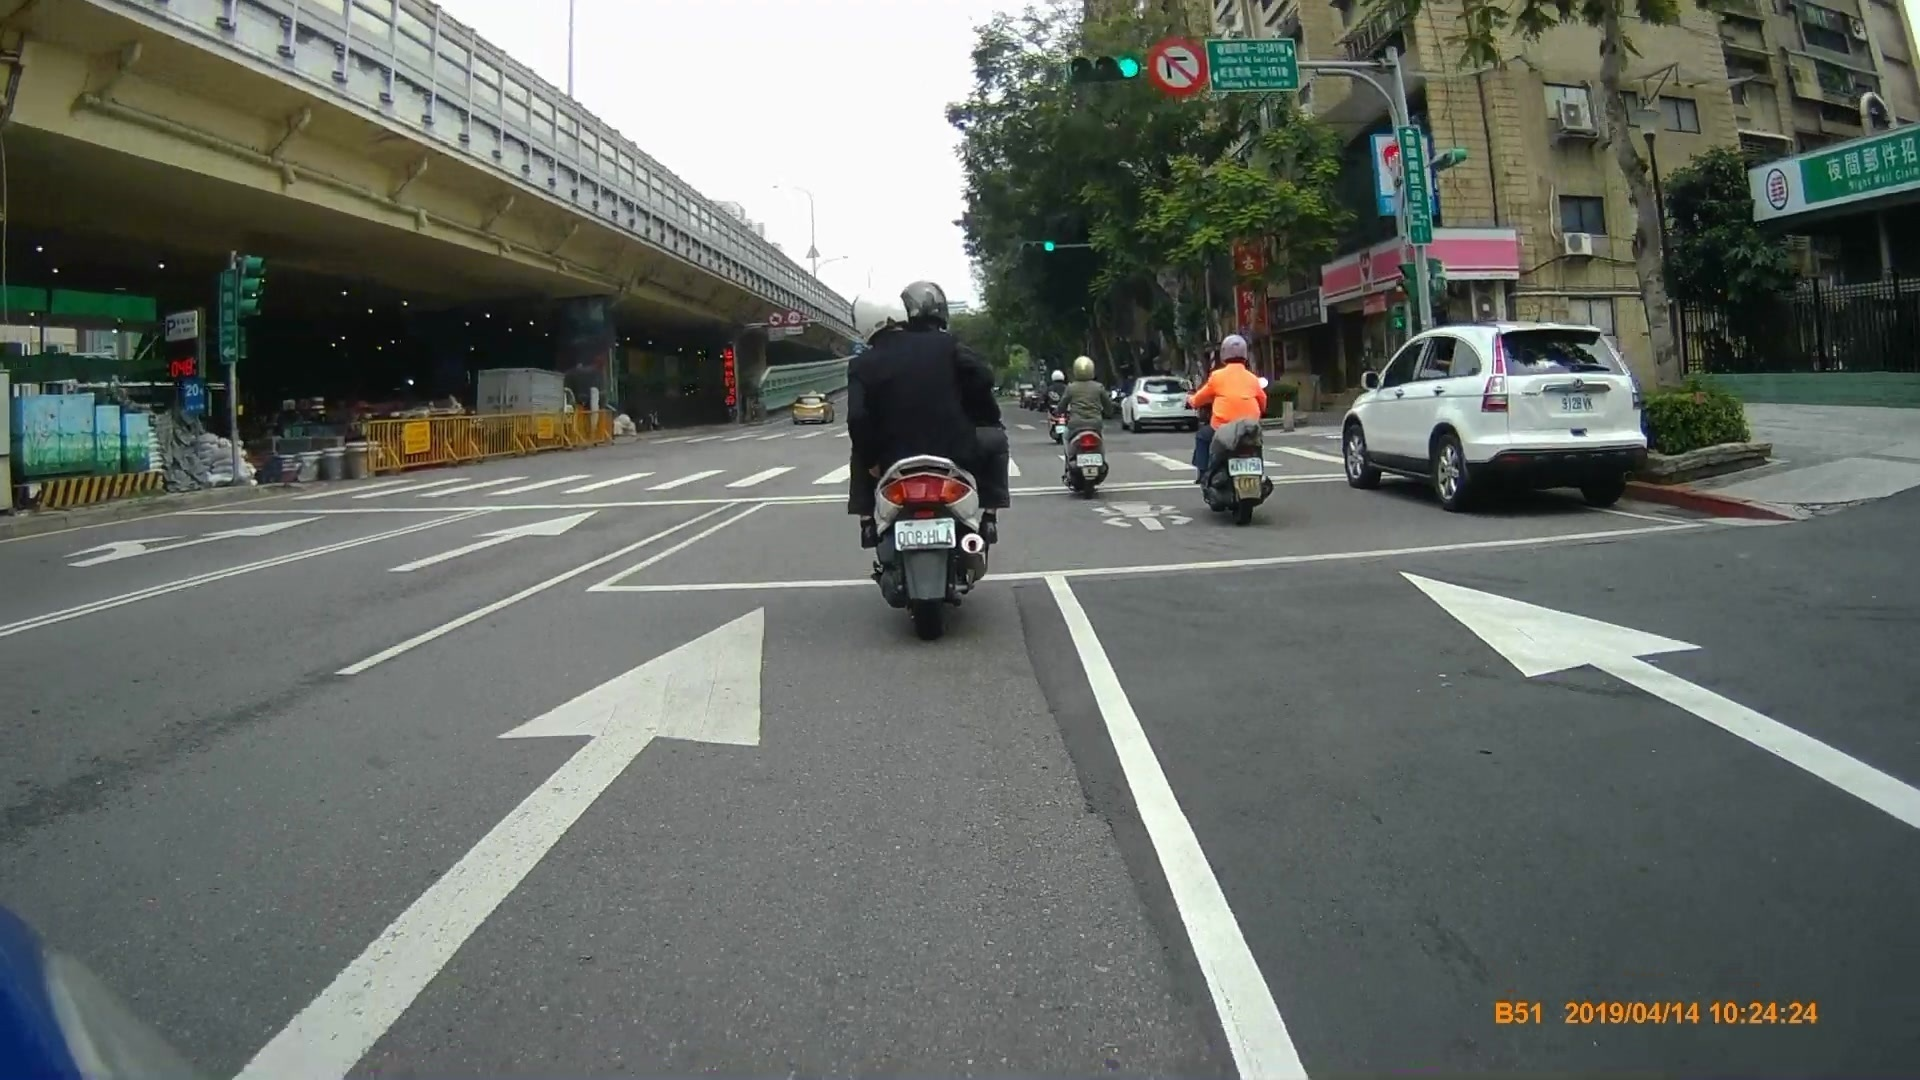License_plate: (891, 521, 957, 548), (1557, 392, 1599, 417), (1229, 456, 1267, 476), (1071, 451, 1107, 470)
